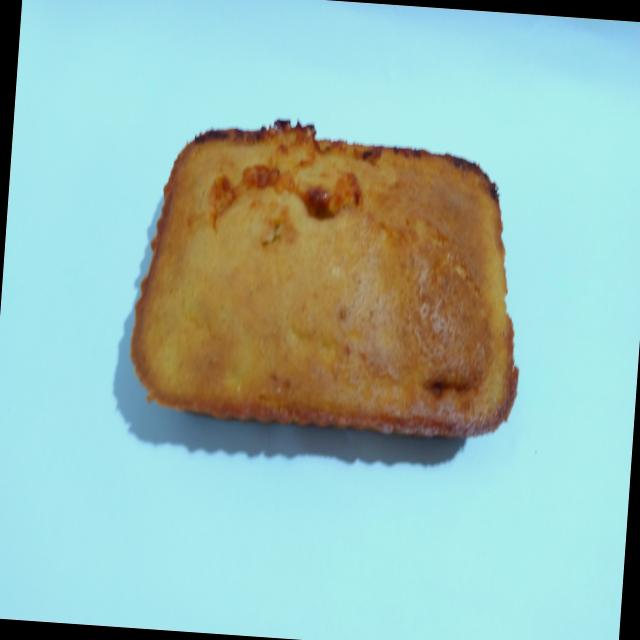Sopa: (120, 96, 542, 464)
